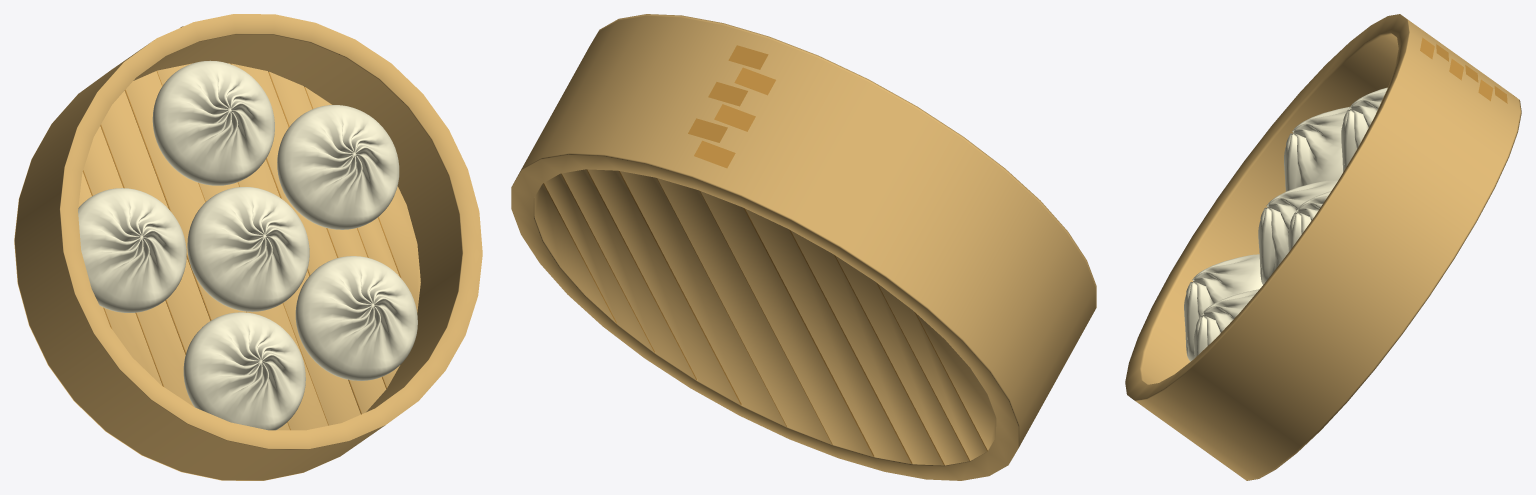
The model's file is xlb_icon.fbx.
3 renders of one model, left to right at view 1: azimuth 30°, elevation 25°; view 2: azimuth 150°, elevation 25°; view 3: azimuth 270°, elevation 25°, orthographic. The views are drawn at different scales.
Visible parts, largest first — view 1: basket, baos; view 2: basket; view 3: basket, baos.
Boxes of the visible parts, x1=… form: basket: x1=14, y1=14, x2=482, y2=480; baos: x1=78, y1=60, x2=417, y2=430; basket: x1=511, y1=14, x2=1096, y2=480; basket: x1=1125, y1=14, x2=1521, y2=480; baos: x1=1184, y1=87, x2=1387, y2=361.
Bounding box in the file's own units: 48.8 × 46.9 × 40.44.
